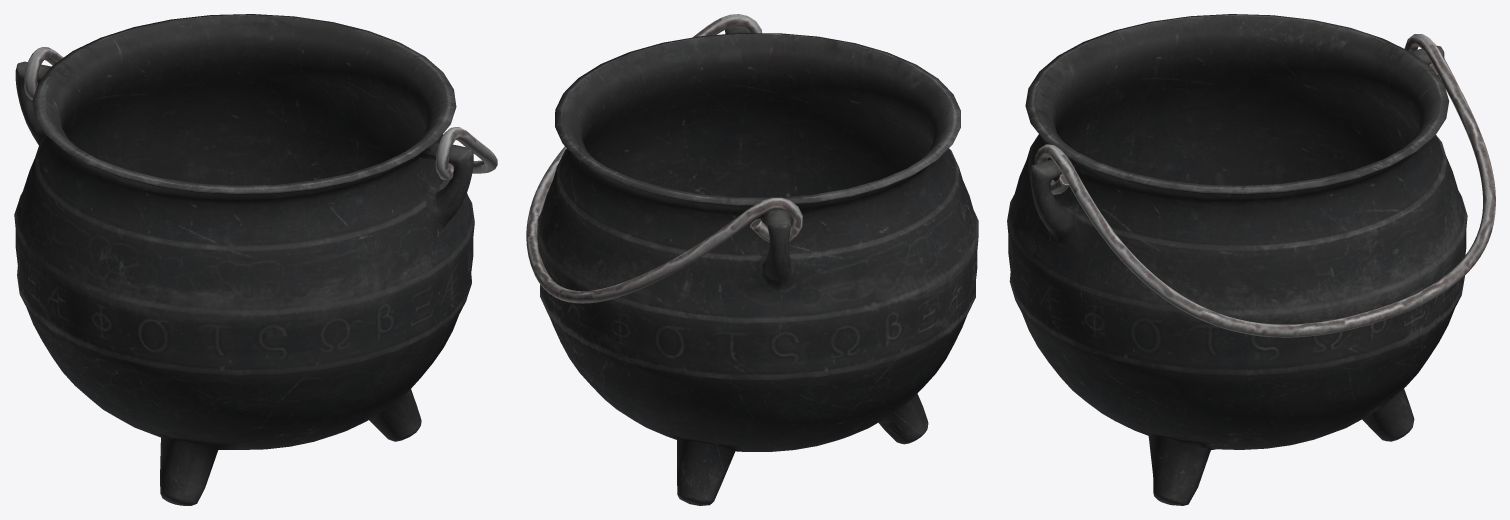
Rendered from Cauldron.fbx.
3 renders of one model, left to right at view 1: azimuth 30°, elevation 25°; view 2: azimuth 150°, elevation 25°; view 3: azimuth 270°, elevation 25°, orthographic. The views are drawn at different scales.
Visible parts, largest first — view 1: Cauldron_low; view 2: Cauldron_low; view 3: Cauldron_low.
Part boxes in pixels (x1,y1,x2,y2): Cauldron_low: [14, 14, 497, 505]; Cauldron_low: [526, 14, 978, 505]; Cauldron_low: [1007, 14, 1495, 505].
Size of the model in its own units: 393 by 315 by 393.
